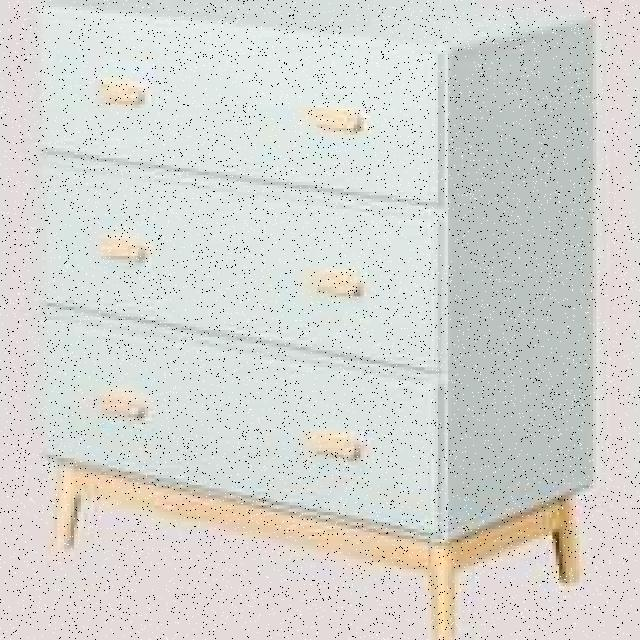mobile-phone: (37, 0, 598, 639)
